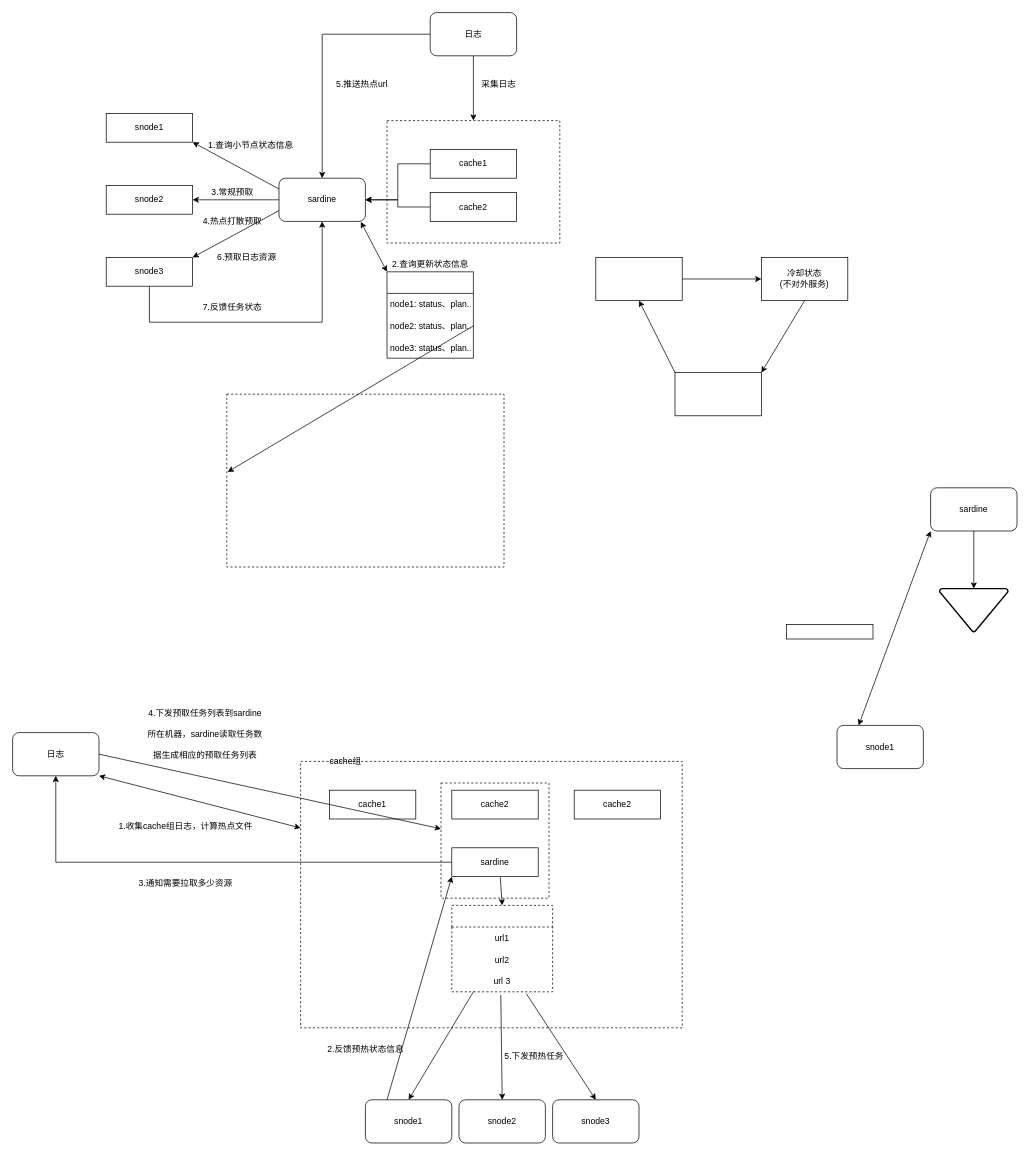
This 1030x1156 diagram has some shape labels left out. Each missing label, with the box of its shape:
初始状态: (595, 257, 682, 301)
完成状态 (不再进行常规预取): (674, 372, 761, 416)
查询小节点状态信息: (786, 624, 873, 639)
预取任务列表: (451, 905, 553, 992)
预取状态: (386, 271, 473, 358)
